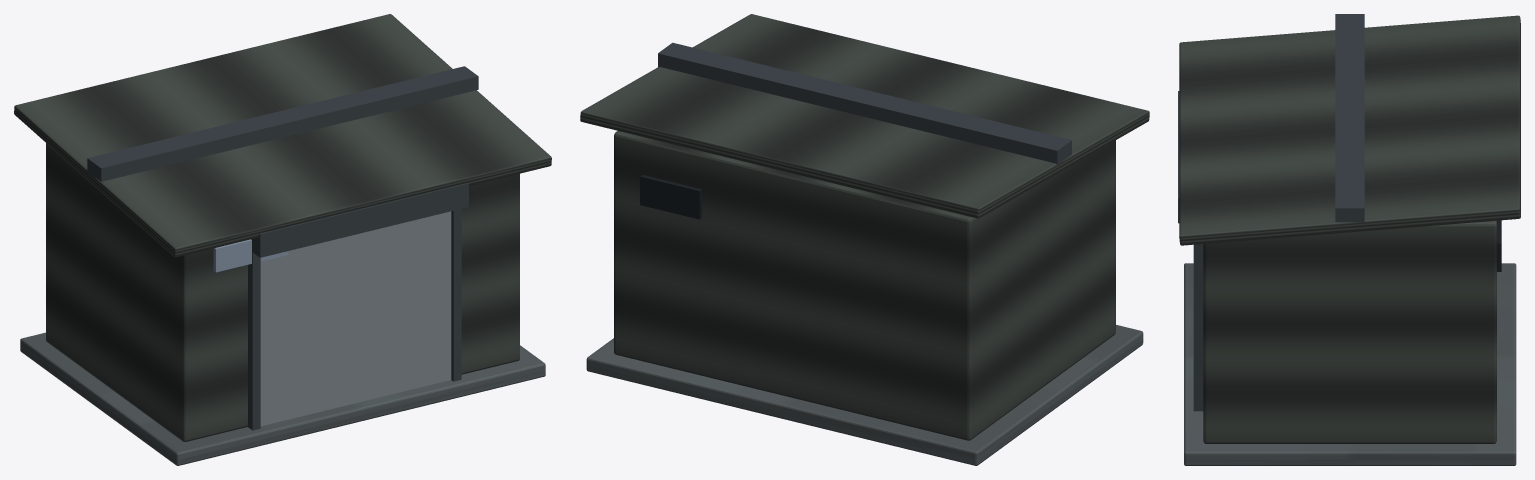
Rendered from fac_shed.glb.
3 views of the same model, side by side, from view 1: azimuth 30°, elevation 25°; view 2: azimuth 150°, elevation 25°; view 3: azimuth 270°, elevation 25° (orthographic). The views are drawn at different scales.
Parts seen in each view (by area): view 1: FAC_SHED; view 2: FAC_SHED; view 3: FAC_SHED.
Boxes of the visible parts, bbox=[...] form: FAC_SHED: bbox=[14, 14, 551, 465]; FAC_SHED: bbox=[580, 14, 1149, 465]; FAC_SHED: bbox=[1178, 14, 1520, 465].
Bounding box in the file's own units: 4.7 × 2.94 × 3.51.
6 materials, 2 textured.
